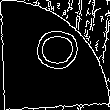O_W: (29, 33, 81, 77)
